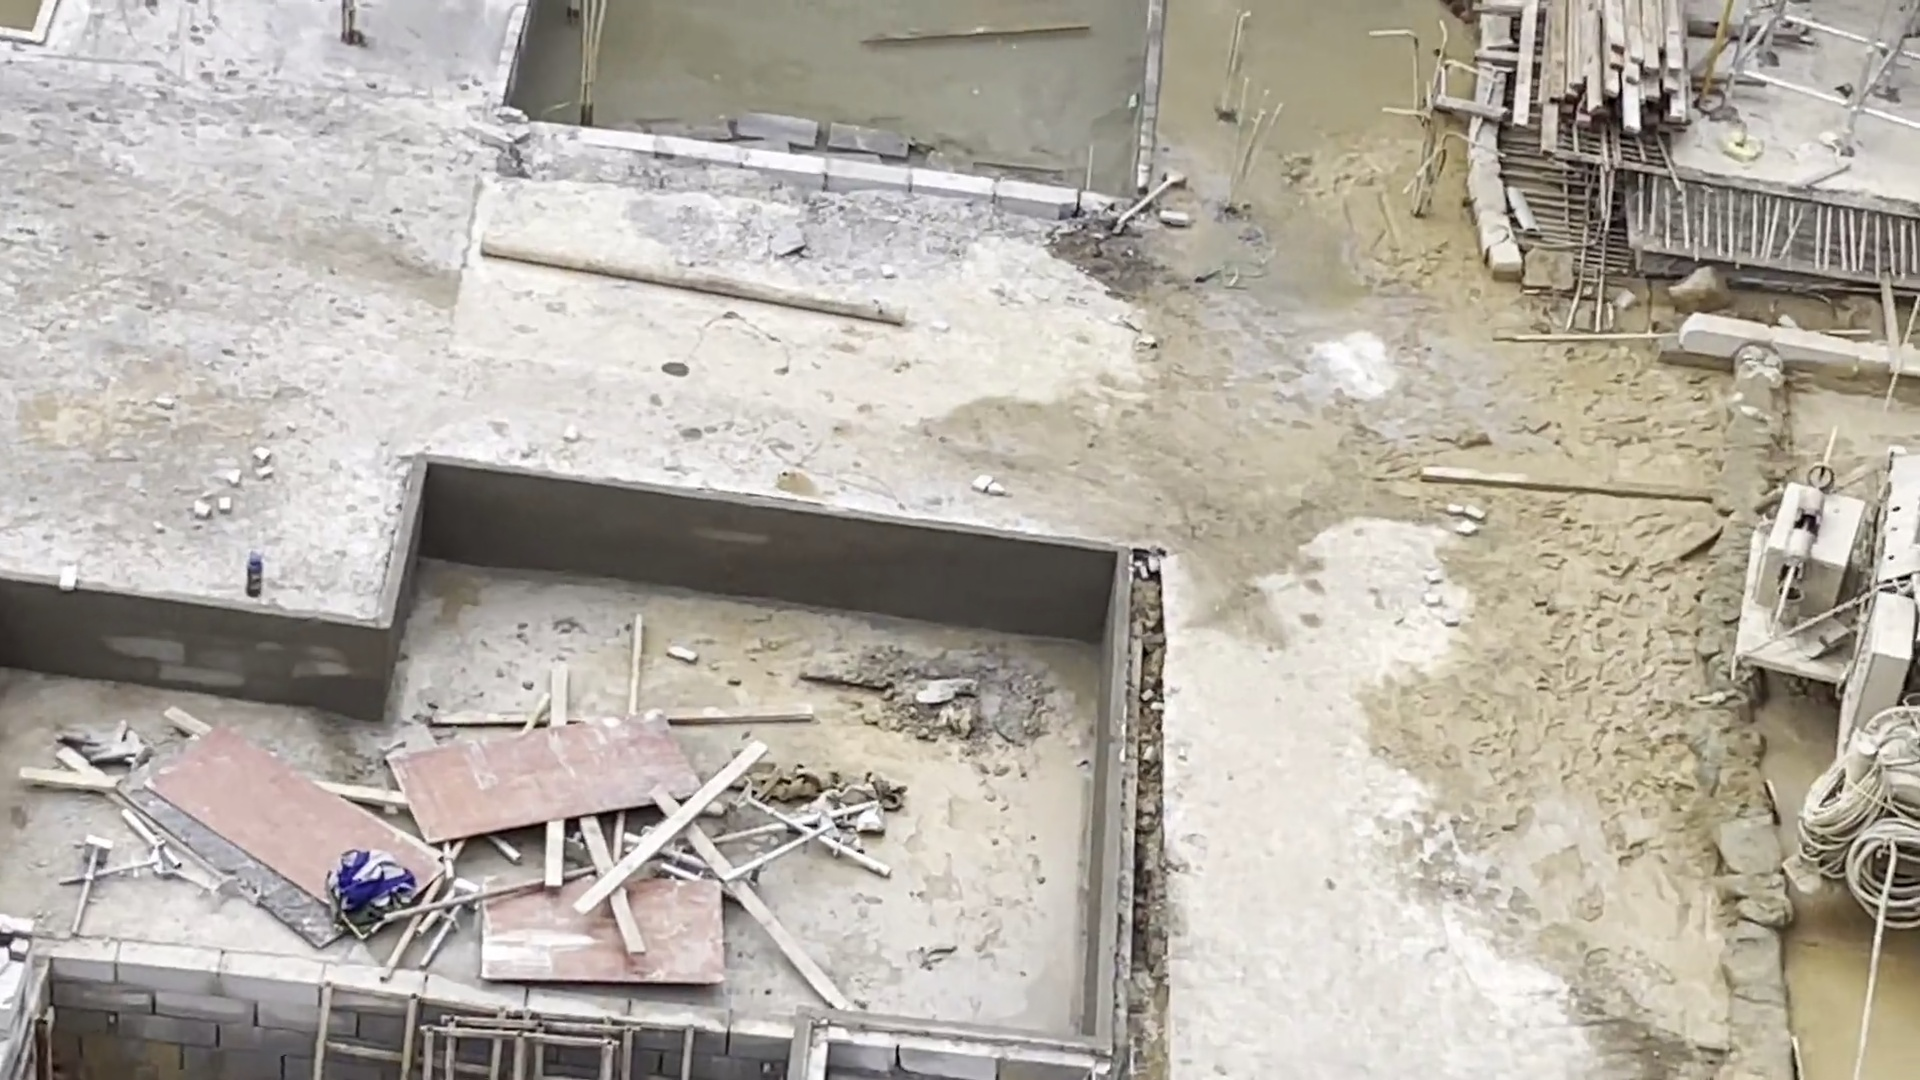wood: (1511, 1, 1687, 161)
